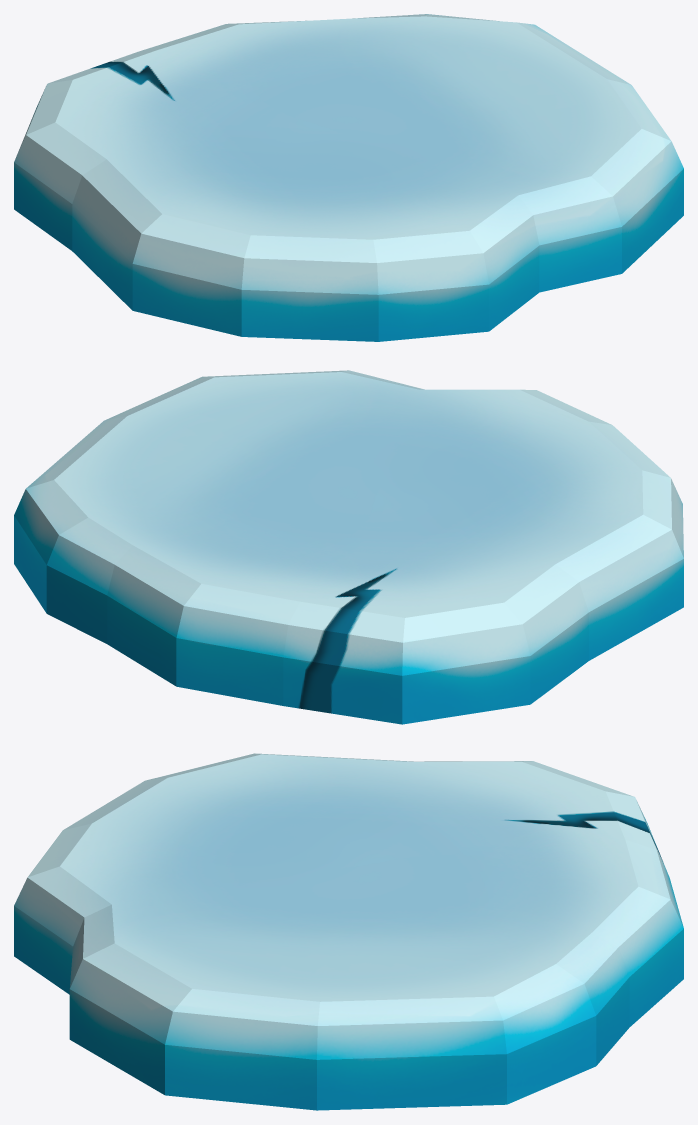
Rendered from IceCube.gltf.
3 renders of one model, top to bottom at view 1: azimuth 30°, elevation 25°; view 2: azimuth 150°, elevation 25°; view 3: azimuth 270°, elevation 25°, orthographic. The views are drawn at different scales.
Visible parts, largest first — view 1: Cylinder; view 2: Cylinder; view 3: Cylinder.
Boxes of the visible parts, x1=… form: Cylinder: x1=14, y1=14, x2=683, y2=341; Cylinder: x1=14, y1=370, x2=683, y2=724; Cylinder: x1=14, y1=753, x2=683, y2=1110.
Bounding box in the file's own units: 2 × 0.3 × 2.
1 material, 1 textured.
